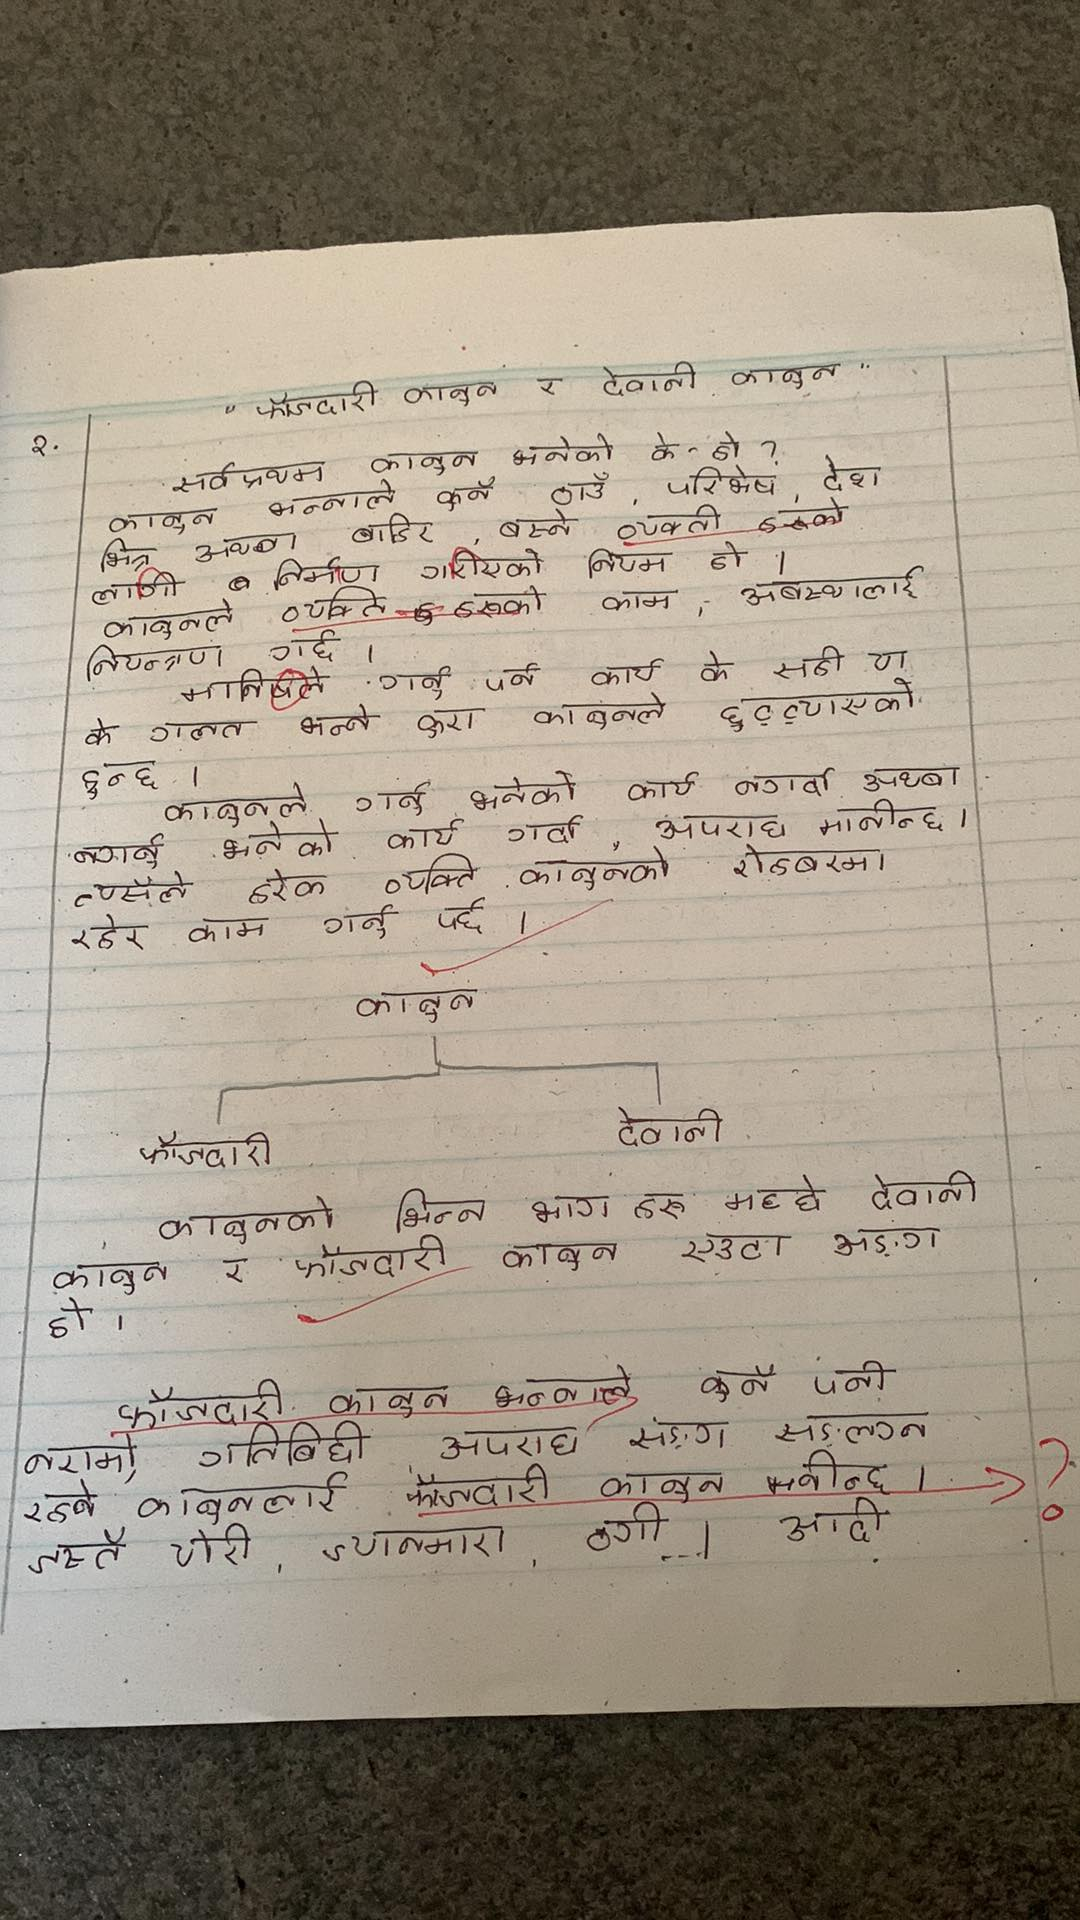text: (716, 675, 924, 735), (135, 1473, 356, 1520), (156, 1193, 338, 1245), (193, 1422, 371, 1472), (316, 1520, 509, 1565), (117, 1377, 285, 1428), (293, 1233, 448, 1287), (400, 1464, 553, 1516), (733, 568, 931, 608), (164, 781, 309, 829), (725, 843, 895, 884), (488, 1365, 633, 1412), (95, 595, 236, 644), (771, 1407, 934, 1449), (513, 851, 674, 891), (169, 671, 331, 711), (136, 1129, 276, 1174), (764, 1448, 895, 1495), (76, 640, 227, 680), (607, 1101, 727, 1151), (253, 377, 380, 425), (167, 458, 334, 493), (775, 1497, 887, 1549), (20, 1432, 140, 1481), (812, 799, 947, 843), (529, 694, 676, 733), (324, 1377, 456, 1420), (266, 479, 400, 520), (218, 820, 338, 865), (417, 545, 551, 584), (277, 584, 392, 629), (436, 1428, 580, 1464), (868, 1168, 978, 1215), (463, 771, 576, 815), (355, 988, 479, 1027), (73, 873, 189, 915), (721, 1171, 828, 1216), (49, 1259, 171, 1298), (617, 500, 724, 543), (653, 812, 787, 847), (393, 1184, 487, 1233), (497, 1240, 625, 1275), (25, 1531, 129, 1575), (675, 1229, 789, 1269), (380, 853, 476, 899), (822, 1224, 940, 1261), (624, 1416, 735, 1456), (599, 1468, 731, 1501), (585, 1501, 665, 1555), (166, 1522, 253, 1571), (665, 464, 779, 501), (856, 757, 965, 795), (753, 496, 848, 539), (269, 555, 384, 591), (15, 1480, 98, 1528), (593, 360, 702, 397), (728, 767, 836, 804), (506, 433, 615, 468), (729, 357, 841, 392), (193, 530, 305, 564), (78, 756, 164, 800), (698, 1361, 781, 1407), (71, 835, 164, 876), (69, 910, 145, 957), (400, 377, 504, 411), (367, 448, 484, 479), (580, 545, 676, 582), (811, 1357, 891, 1400), (618, 767, 705, 807), (525, 1191, 615, 1229), (87, 571, 183, 607), (448, 584, 545, 620), (103, 506, 220, 535), (244, 869, 332, 907), (497, 501, 572, 545), (770, 644, 847, 684), (352, 781, 429, 822), (320, 903, 396, 944), (141, 717, 247, 746), (348, 516, 440, 549), (299, 703, 376, 742), (268, 629, 340, 669), (818, 454, 887, 495), (382, 819, 465, 853), (413, 698, 480, 740), (376, 665, 452, 702), (589, 657, 669, 692), (186, 911, 265, 947), (628, 1185, 694, 1225), (545, 468, 612, 506), (504, 818, 578, 852), (483, 659, 541, 700), (601, 587, 674, 618), (433, 899, 492, 938), (95, 535, 156, 572), (45, 1295, 87, 1341), (215, 1253, 256, 1299), (431, 483, 493, 513), (704, 541, 748, 579), (76, 716, 123, 752), (869, 644, 915, 676), (708, 425, 744, 465), (698, 651, 732, 688), (527, 372, 564, 404), (24, 429, 53, 465), (651, 433, 676, 465)
